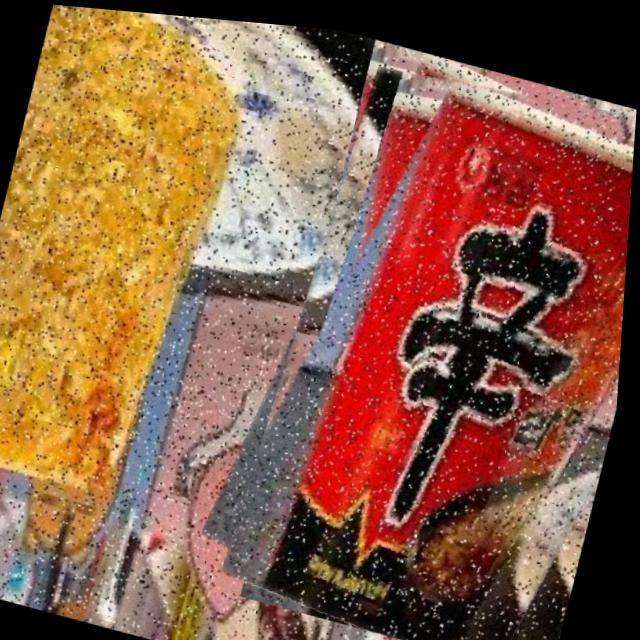Miscellaneous: (217, 17, 640, 640)
